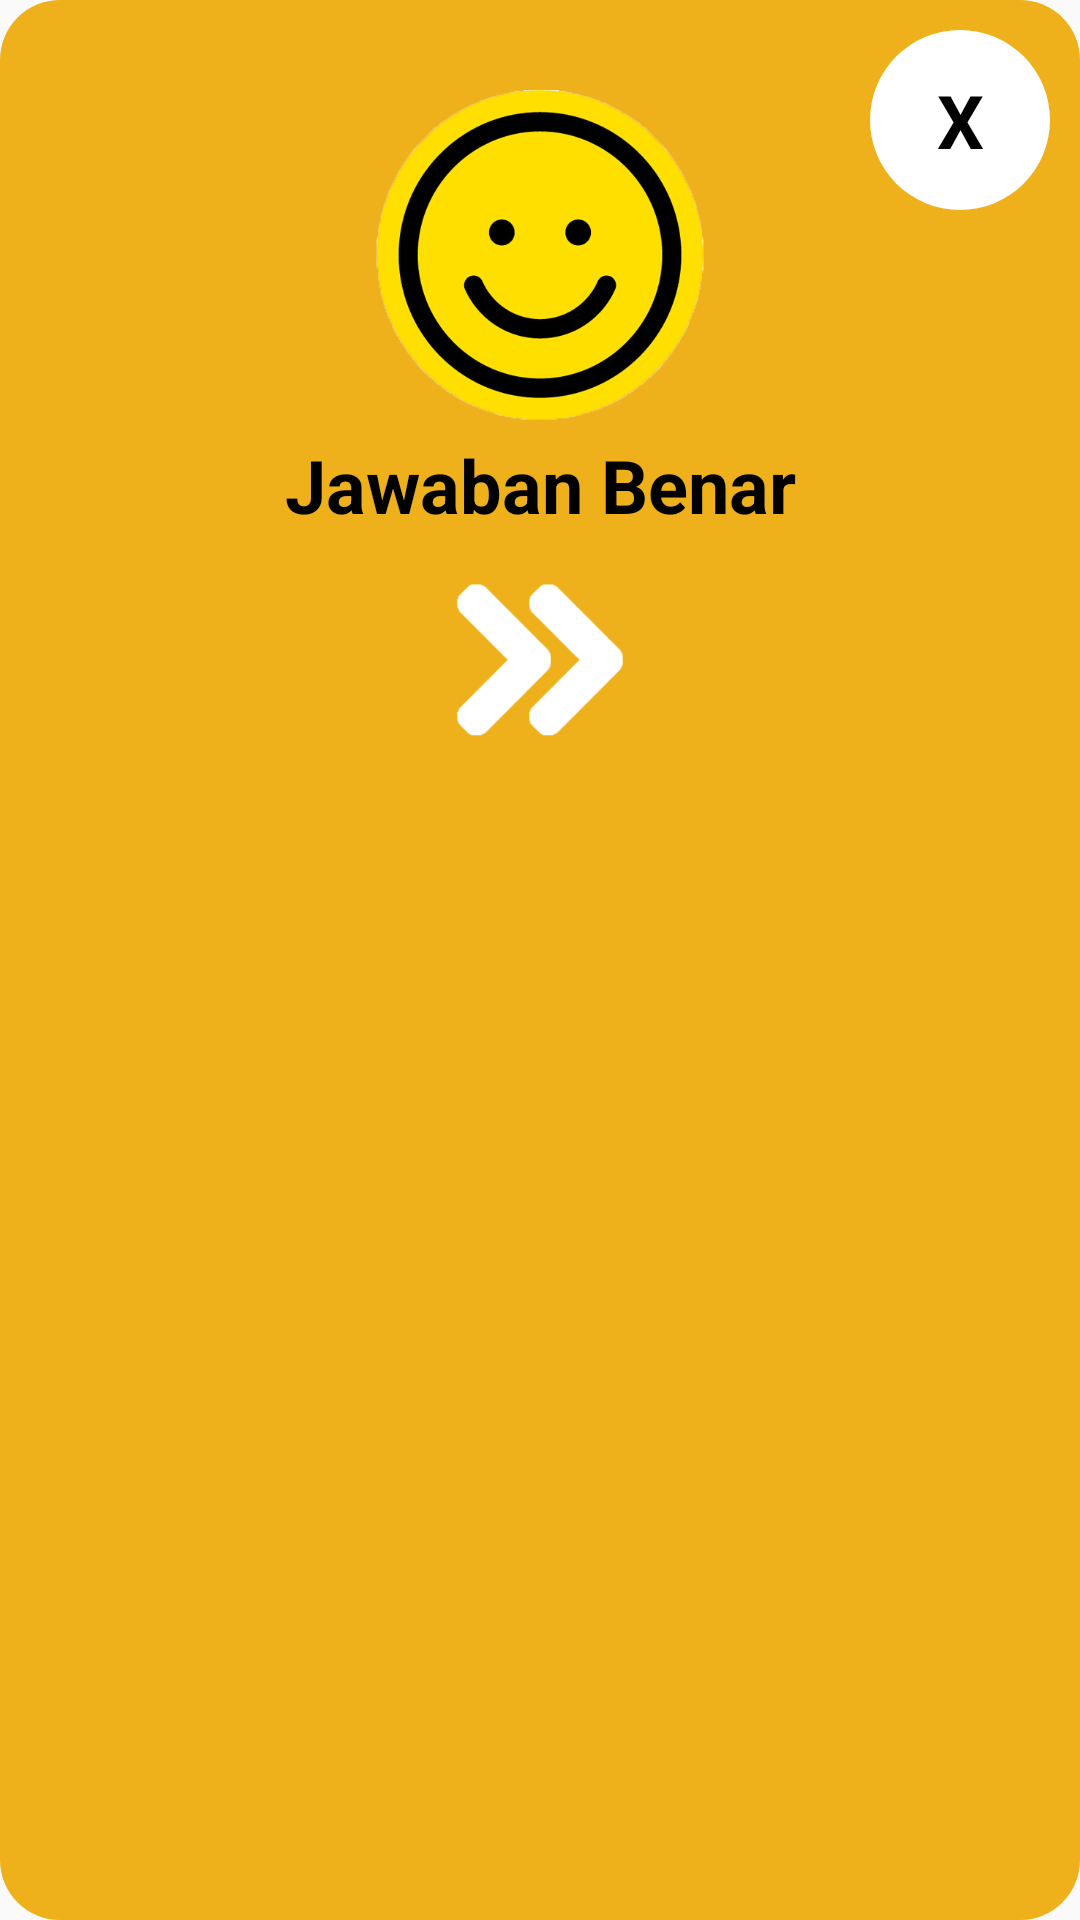

Named icons in this screenshot (1080px x 1920px) and their bounding boxes, bbox=(x1, y1, x2, y2):
next: bbox=(457, 584, 623, 736)
smileicon: bbox=(376, 90, 704, 420)
